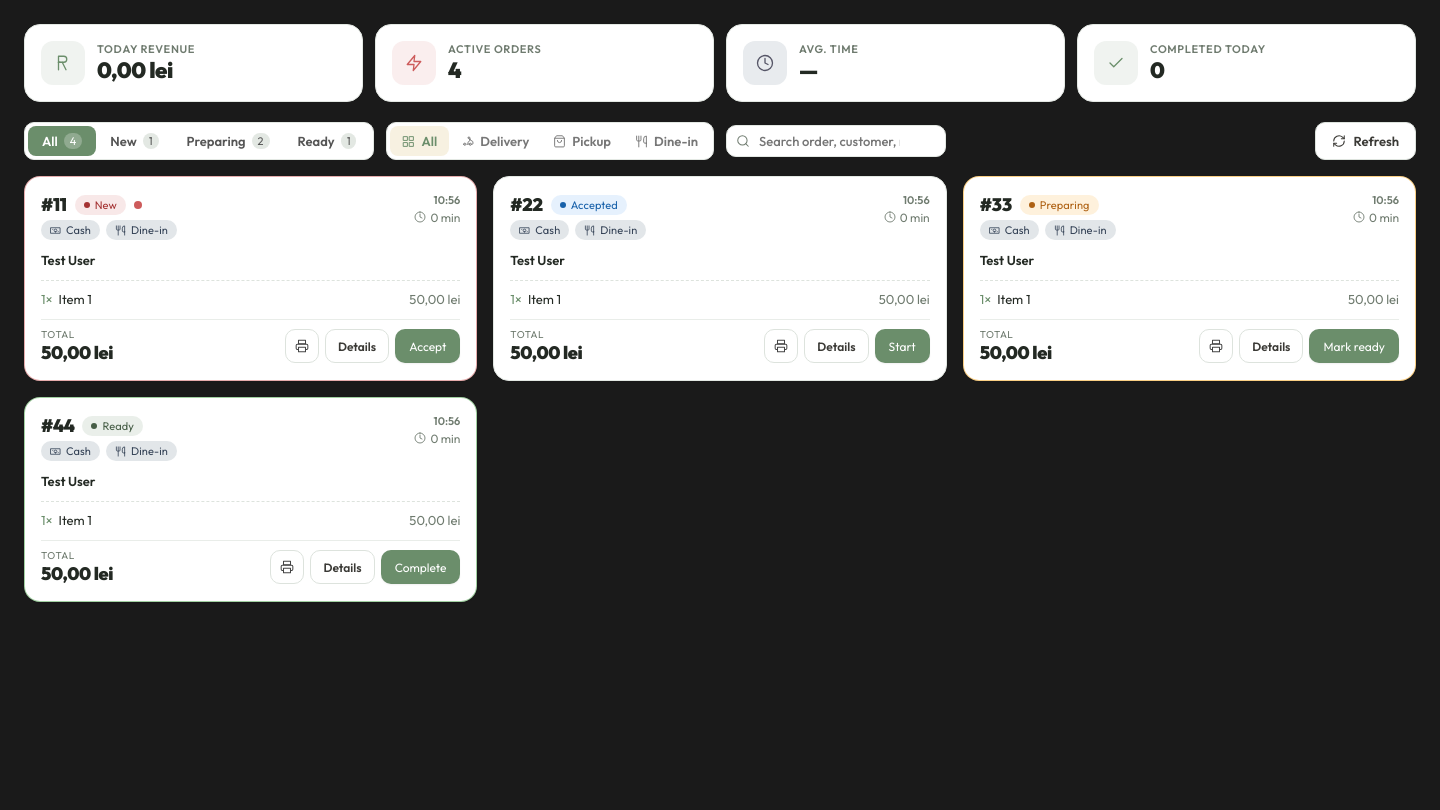
Test case: OrdersScreen › ORD-01: live orders list with status filtering › filter "preparing" shows accepted + preparing orders
Click the button "Preparing 2".
click(228, 141)  # box [172,126,284,156]
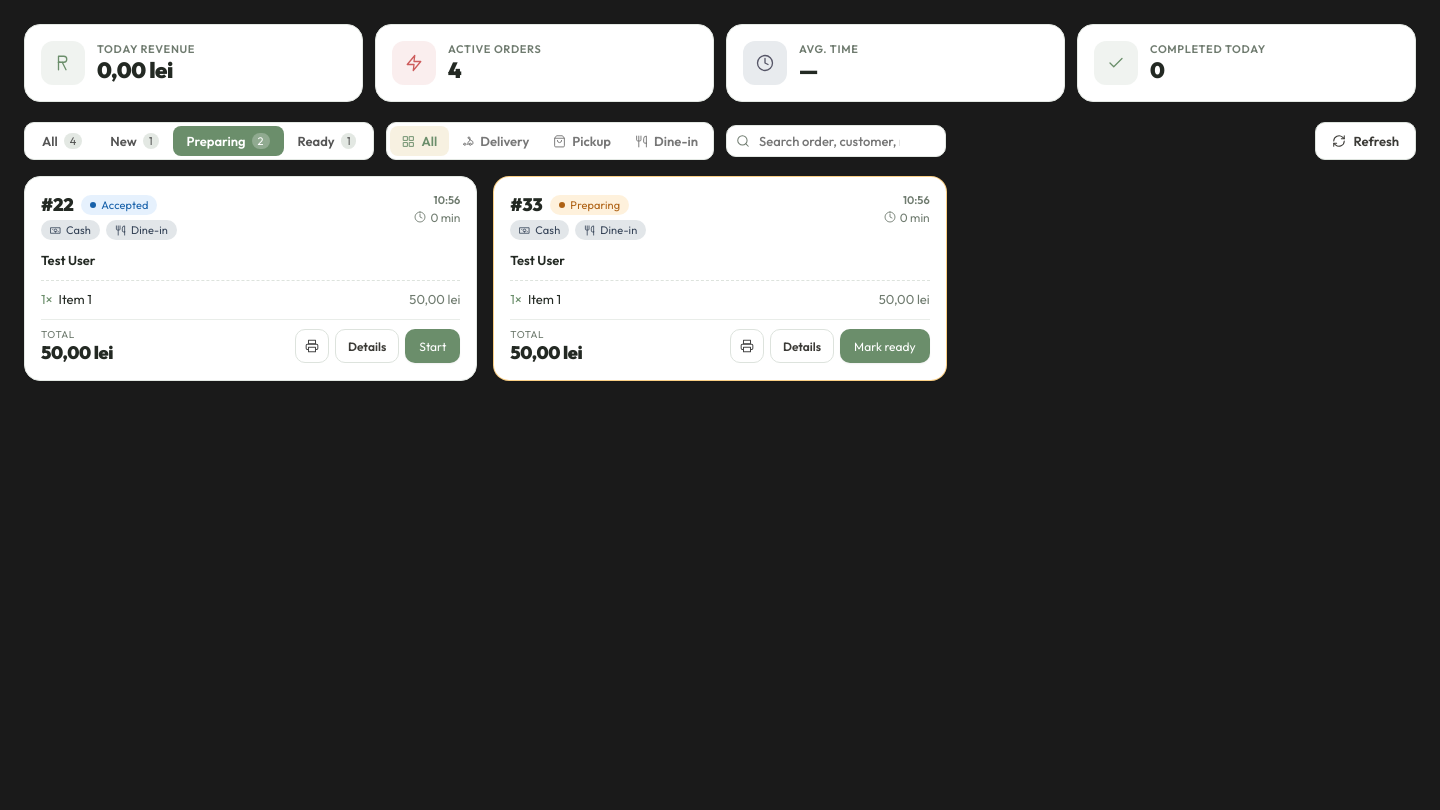
Expected: the text "#22" is shown, [41,193,73,216]
Expected: the text "#11" is gone
Expected: the text "#44" is gone
